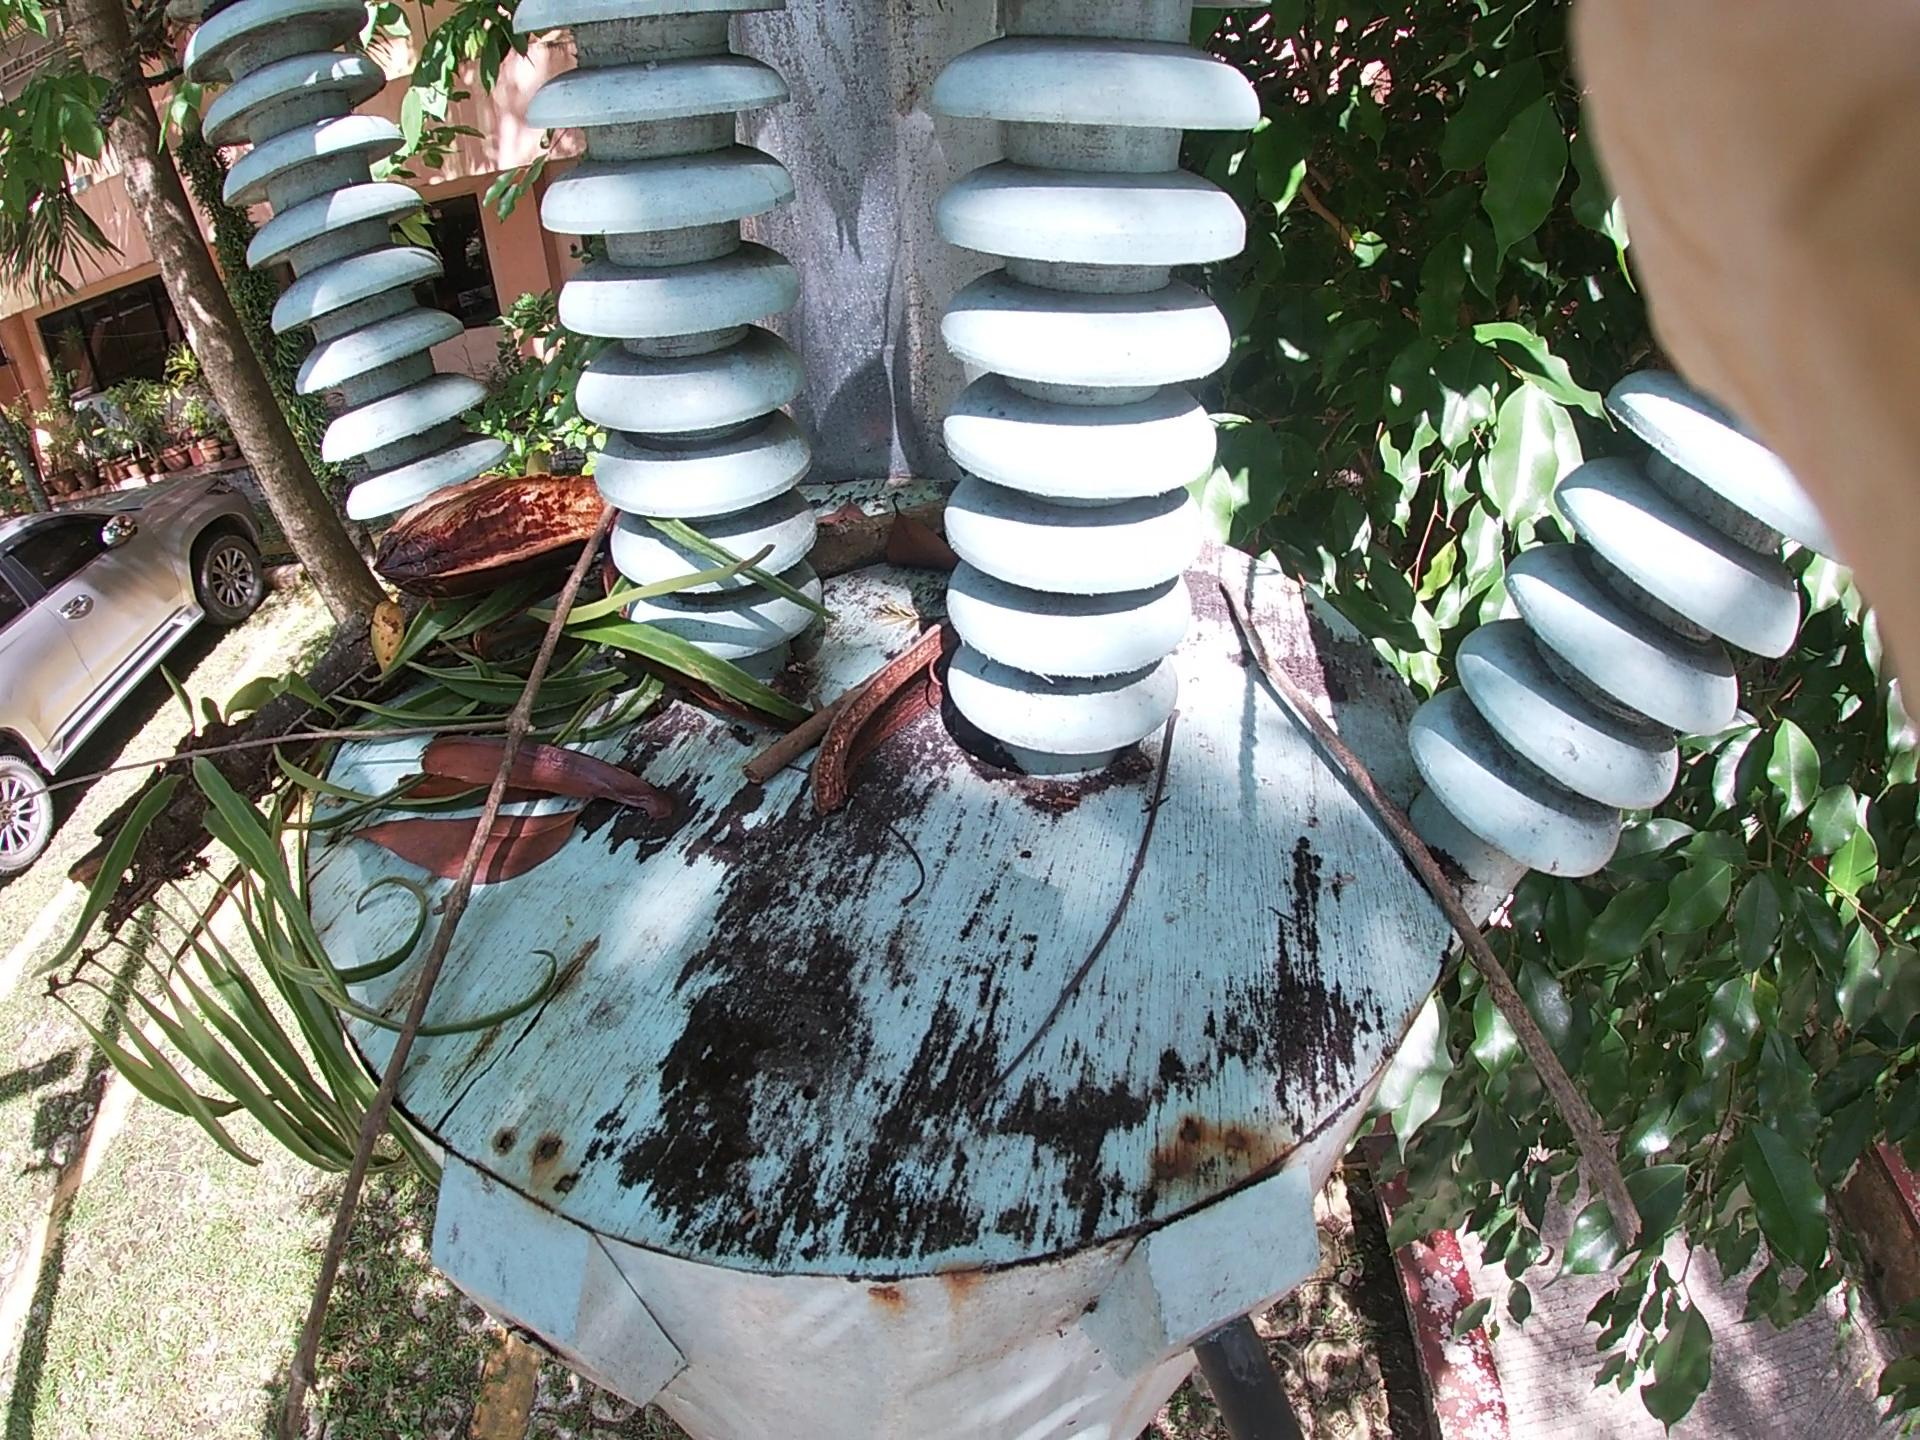branch with leaves: (121, 427, 770, 914)
leaf: (317, 693, 614, 1000), (750, 451, 1043, 613)
mahogany fruit: (333, 417, 658, 650), (797, 545, 974, 844)
tree branch: (1240, 585, 1628, 1144), (290, 502, 540, 1342), (968, 617, 1223, 1100), (736, 510, 1108, 774)
